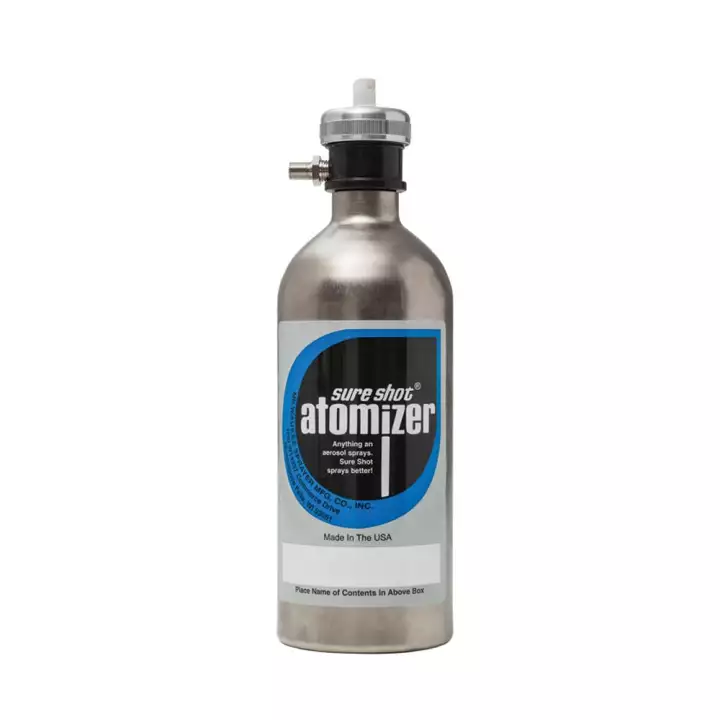Aerosol_cans: (269, 71, 457, 659)
